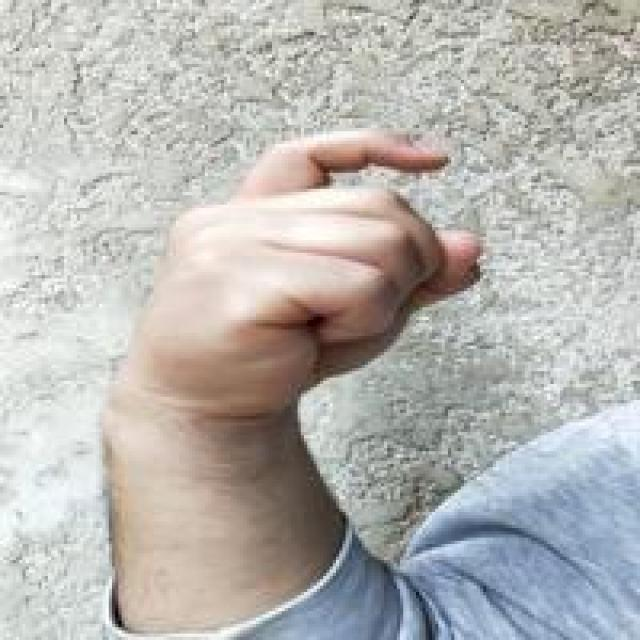X: (108, 123, 494, 418)
